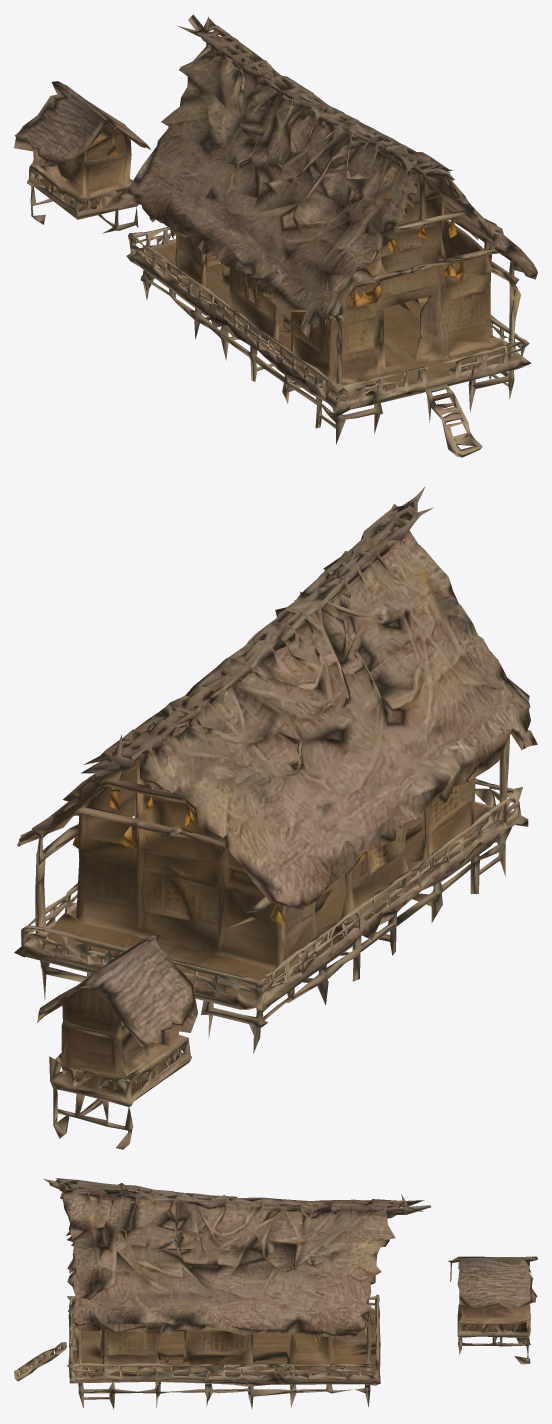
File: h_long.glb
3 renders of one model, top to bottom at view 1: azimuth 30°, elevation 25°; view 2: azimuth 150°, elevation 25°; view 3: azimuth 270°, elevation 25°, orthographic. The views are drawn at different scales.
Visible parts, largest first — view 1: tripo_node_b7259bf6-2ff5-4d1c-ad65-01faa6cf8b5c; view 2: tripo_node_b7259bf6-2ff5-4d1c-ad65-01faa6cf8b5c; view 3: tripo_node_b7259bf6-2ff5-4d1c-ad65-01faa6cf8b5c.
Part boxes in pixels (x1=…): tripo_node_b7259bf6-2ff5-4d1c-ad65-01faa6cf8b5c: x1=14, y1=14, x2=537, y2=457; tripo_node_b7259bf6-2ff5-4d1c-ad65-01faa6cf8b5c: x1=14, y1=487, x2=537, y2=1149; tripo_node_b7259bf6-2ff5-4d1c-ad65-01faa6cf8b5c: x1=14, y1=1178, x2=537, y2=1409.
Size of the model in its own units: 0.38 by 0.4182 by 0.9926.
1 material, 1 textured.
